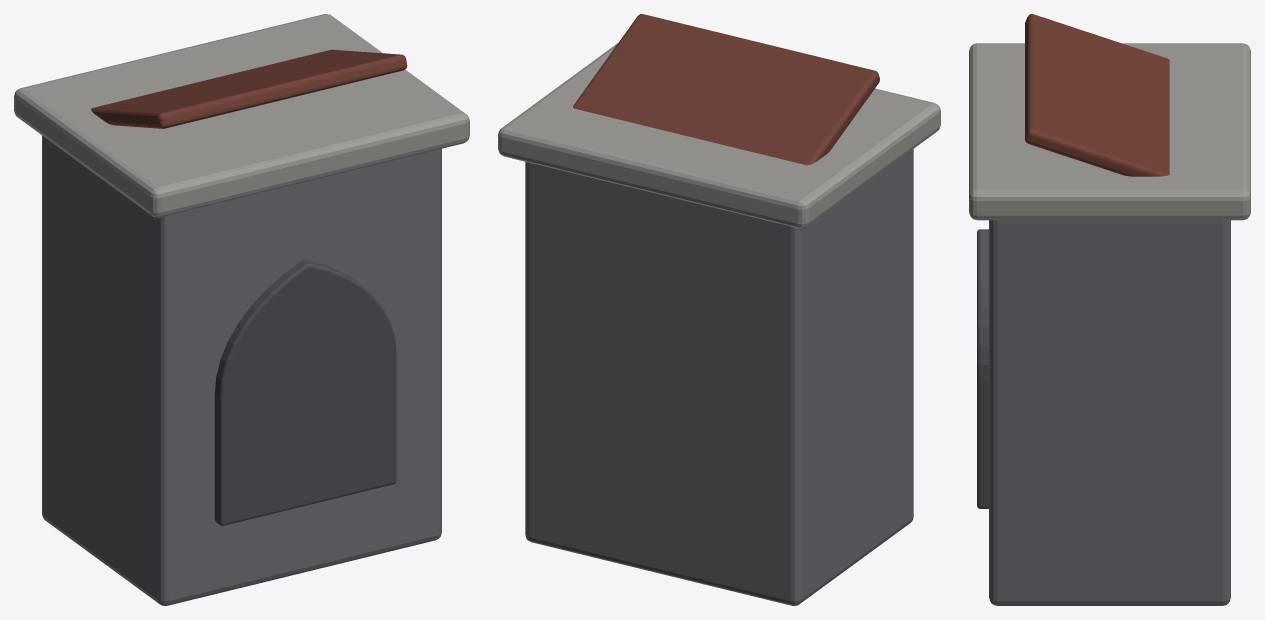
File: podium_lecture_stone.glb
The picture shows the model from 3 angles, left to right: view 1: azimuth 30°, elevation 25°; view 2: azimuth 150°, elevation 25°; view 3: azimuth 270°, elevation 25°; orthographic projection. The views are drawn at different scales.
Visible parts, largest first — view 1: GD_podium_lecture_stone__m0, GD_podium_lecture_stone__m1, GD_podium_lecture_stone__m3, GD_podium_lecture_stone__m2; view 2: GD_podium_lecture_stone__m0, GD_podium_lecture_stone__m1, GD_podium_lecture_stone__m2; view 3: GD_podium_lecture_stone__m0, GD_podium_lecture_stone__m1, GD_podium_lecture_stone__m2, GD_podium_lecture_stone__m3.
Part boxes in pixels (x1,y1,x2,y2): GD_podium_lecture_stone__m0: [42, 135, 441, 605]; GD_podium_lecture_stone__m1: [14, 14, 469, 217]; GD_podium_lecture_stone__m3: [214, 260, 396, 525]; GD_podium_lecture_stone__m2: [91, 49, 407, 128]; GD_podium_lecture_stone__m0: [525, 149, 913, 605]; GD_podium_lecture_stone__m1: [498, 43, 940, 228]; GD_podium_lecture_stone__m2: [573, 14, 879, 165]; GD_podium_lecture_stone__m0: [989, 220, 1230, 605]; GD_podium_lecture_stone__m1: [969, 43, 1250, 220]; GD_podium_lecture_stone__m2: [1025, 14, 1169, 176]; GD_podium_lecture_stone__m3: [977, 229, 988, 508].
Size of the model in its own units: 0.9 by 1.28 by 0.7.
